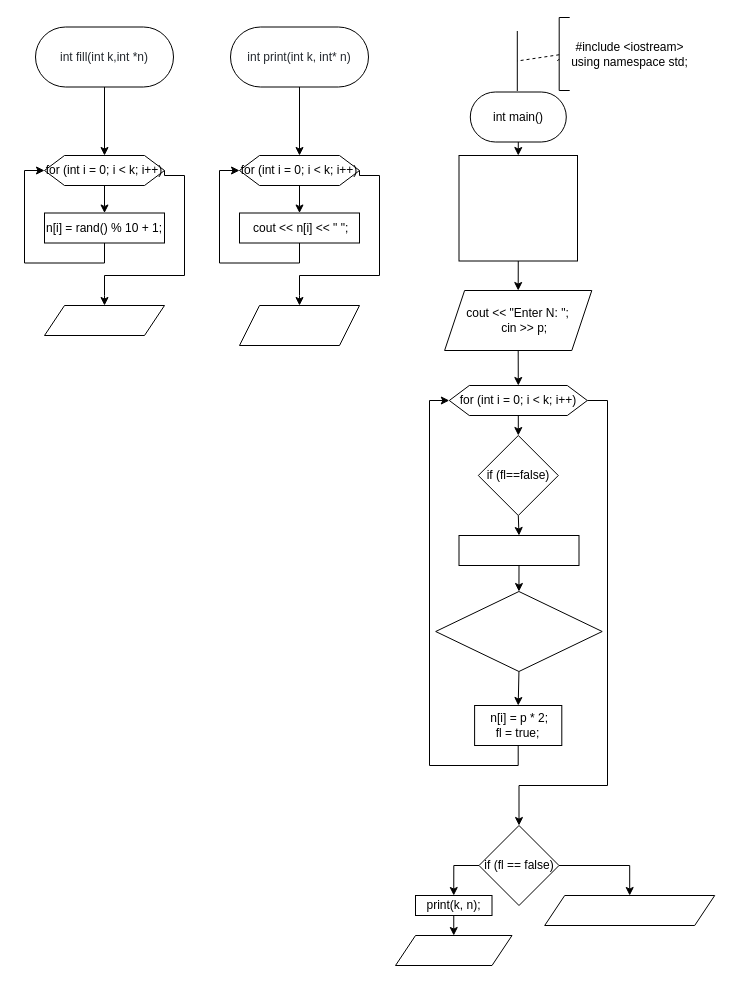
Image size: 733x983. Some labels were removed from this diagram. The shapes that lost their labels are listed below. From the top down, each one's centre as x and y in pixels, then its label:
point 518,207: bool fl=false; int k, p; int count=0; cin >> k; int *n = new int[k]; fill(k, n);
point 104,320: return 0;
point 299,325: cout << endl; return 0;
point 518,550: count++;
point 518,631: if ((n[i] == p) && (fl==false))
point 629,910: cout << "There is no N";
point 453,950: cout << count;
